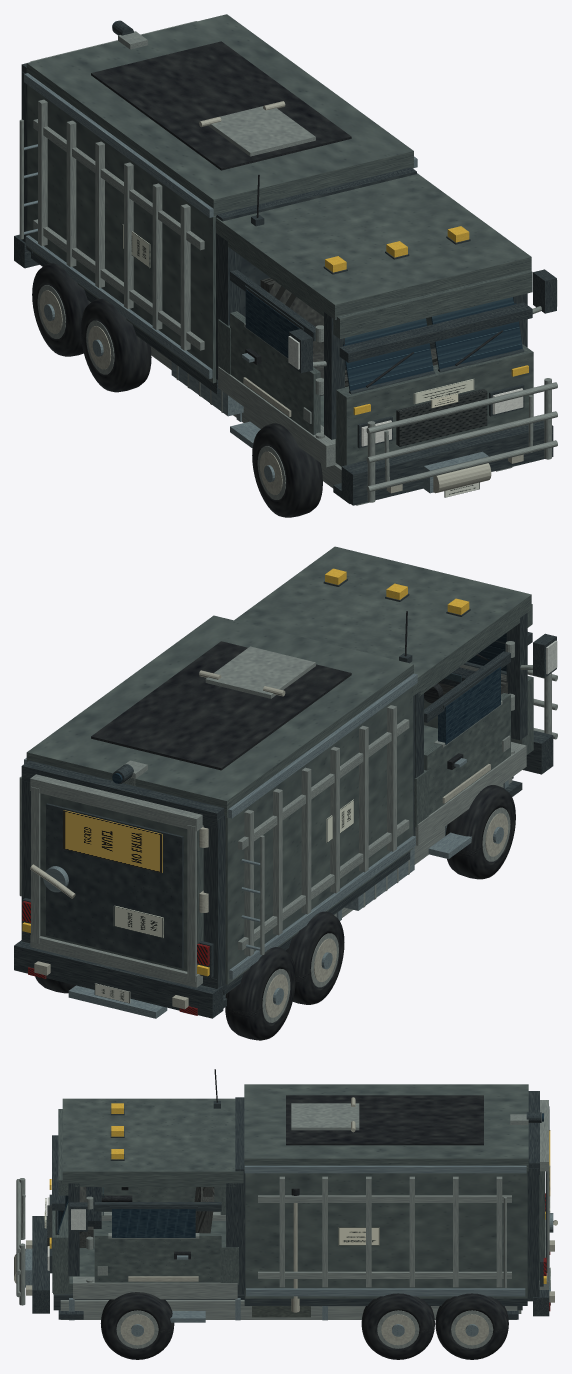
Rendered from PZ_Ironveil6_Armored_Truck_LOD1.glb.
3 renders of one model, top to bottom at view 1: azimuth 30°, elevation 25°; view 2: azimuth 150°, elevation 25°; view 3: azimuth 270°, elevation 25°, orthographic. The views are drawn at different scales.
Visible parts, largest first — view 1: CAB_ROOF_DOUBLE_SKIN, VAULT_ROOF_DOUBLE_ARMOR, VAULT_LEFT_SIDE_ARMOR, VAULT_ROOF_WALKWAY, CAB_COWL_FRONT, FRONT_BUMPER_ARMOR, CAB_DOOR_L_ARMOR_PANEL, CAB_ROOF_SLOPE_FRONT, WHEEL_1_L_TIRE, WHEEL_2_L_TIRE, CAB_FRONT_VISOR, VAULT_ROOF_HATCH_COVER (+37 smaller); view 2: VAULT_ROOF_DOUBLE_ARMOR, CAB_ROOF_DOUBLE_SKIN, VAULT_LEFT_SIDE_ARMOR, VAULT_ROOF_WALKWAY, VAULT_DOOR_EXTERNAL_SAFETY_PANEL, REAR_BUMPER_ARMOR, CAB_DOOR_L_ARMOR_PANEL, VAULT_DOOR_CAUTION_DECAL, VAULT_DOOR_MAIN_HEAVY_ARMOR, WHEEL_3_L_TIRE, WHEEL_1_L_TIRE, VAULT_ROOF_HATCH_COVER (+35 smaller); view 3: VAULT_RIGHT_SIDE_ARMOR, CAB_ROOF_DOUBLE_SKIN, VAULT_ROOF_DOUBLE_ARMOR, VAULT_ROOF_WALKWAY, CAB_DOOR_R_ARMOR_PANEL, CHASSIS_R_LONGITUDINAL_RAIL, CAB_R_BOTTOM_ROCKER, WHEEL_1_R_TIRE, WHEEL_2_R_TIRE, WHEEL_3_R_TIRE, VAULT_R_TOP_EDGE_TRIM, CAB_DOOR_R_GLASS_INSET (+43 smaller).
Boxes of the visible parts, box(x1,y1,x2,y2) form: CAB_ROOF_DOUBLE_SKIN: box(216, 173, 531, 319); VAULT_ROOF_DOUBLE_ARMOR: box(26, 14, 413, 216); VAULT_LEFT_SIDE_ARMOR: box(27, 85, 216, 383); VAULT_ROOF_WALKWAY: box(91, 41, 351, 170); CAB_COWL_FRONT: box(335, 344, 533, 466); FRONT_BUMPER_ARMOR: box(341, 420, 553, 505); CAB_DOOR_L_ARMOR_PANEL: box(230, 311, 320, 435); CAB_ROOF_SLOPE_FRONT: box(333, 270, 532, 338); WHEEL_1_L_TIRE: box(252, 423, 322, 517); WHEEL_2_L_TIRE: box(80, 299, 151, 392); CAB_FRONT_VISOR: box(339, 302, 532, 362); VAULT_ROOF_HATCH_COVER: box(208, 106, 315, 156); VAULT_ROOF_DOUBLE_ARMOR: box(26, 615, 413, 817); CAB_ROOF_DOUBLE_SKIN: box(234, 546, 531, 695); VAULT_LEFT_SIDE_ARMOR: box(225, 686, 413, 984); VAULT_ROOF_WALKWAY: box(91, 641, 351, 770); VAULT_DOOR_EXTERNAL_SAFETY_PANEL: box(46, 803, 183, 968); REAR_BUMPER_ARMOR: box(14, 940, 223, 1018); CAB_DOOR_L_ARMOR_PANEL: box(424, 693, 510, 815); VAULT_DOOR_CAUTION_DECAL: box(63, 810, 162, 872); VAULT_DOOR_MAIN_HEAVY_ARMOR: box(40, 793, 203, 971); WHEEL_3_L_TIRE: box(225, 947, 295, 1040); WHEEL_1_L_TIRE: box(445, 785, 515, 879); VAULT_ROOF_HATCH_COVER: box(205, 646, 315, 698); VAULT_RIGHT_SIDE_ARMOR: box(245, 1171, 527, 1298); CAB_ROOF_DOUBLE_SKIN: box(62, 1098, 243, 1183); VAULT_ROOF_DOUBLE_ARMOR: box(244, 1084, 528, 1171); VAULT_ROOF_WALKWAY: box(286, 1095, 483, 1145); CAB_DOOR_R_ARMOR_PANEL: box(94, 1233, 221, 1282); CHASSIS_R_LONGITUDINAL_RAIL: box(60, 1300, 517, 1319); CAB_R_BOTTOM_ROCKER: box(73, 1276, 237, 1299); WHEEL_1_R_TIRE: box(100, 1292, 174, 1359); WHEEL_2_R_TIRE: box(361, 1293, 434, 1359); WHEEL_3_R_TIRE: box(435, 1293, 508, 1359); VAULT_R_TOP_EDGE_TRIM: box(244, 1165, 526, 1173); CAB_DOOR_R_GLASS_INSET: box(112, 1209, 195, 1237).
Size of the model in its own units: 3.08 by 3.35 by 7.37.
1 material, 1 textured.
